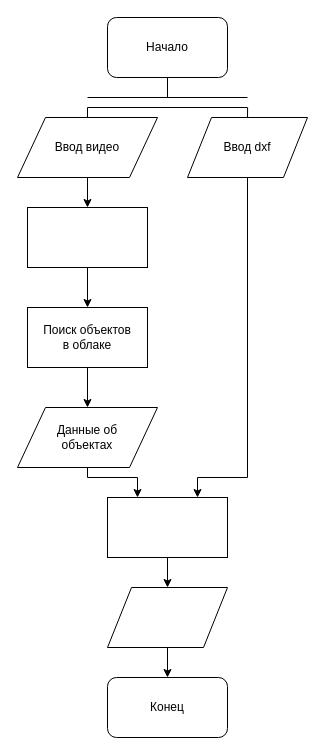
Some shapes in this 325 by 755 pixel diagram are drawn without their labels. The box of each missing label's shape, as (x1, y1, x2, y2) in pixels:
Генерация gcode: (106, 496, 228, 558)
Получение облака точек: (26, 206, 148, 268)
Сохранение gcode: (106, 586, 228, 648)
